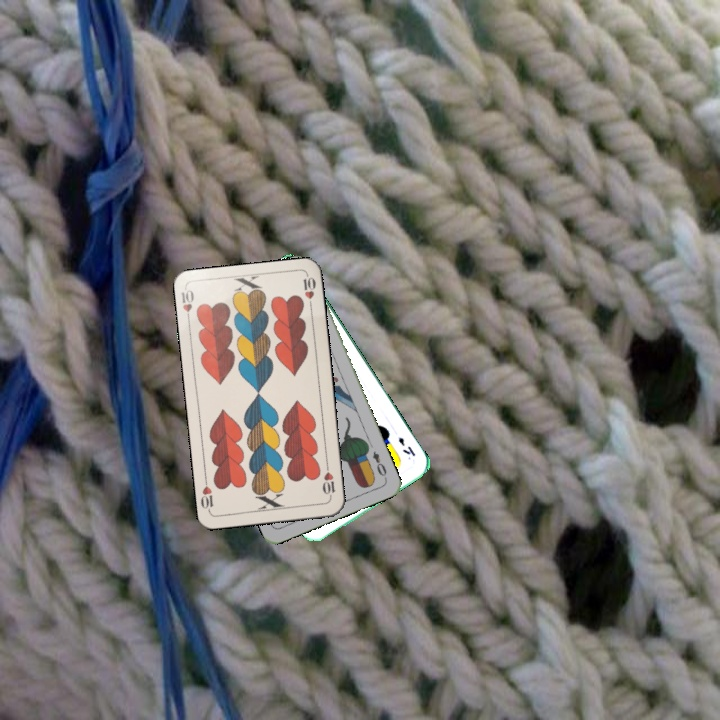EK: (394, 433, 418, 459)
EO: (369, 447, 389, 482)
H10: (319, 460, 338, 501), (178, 285, 196, 326)
